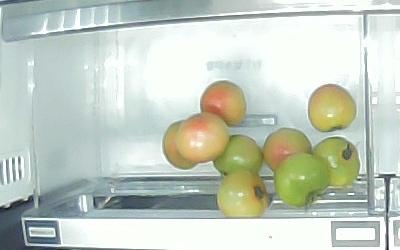tomato: (276, 154, 332, 207), (177, 112, 230, 161), (217, 170, 270, 218), (306, 84, 356, 132), (313, 137, 359, 186), (199, 80, 246, 126), (262, 128, 311, 170), (215, 134, 263, 174), (161, 119, 198, 170)
